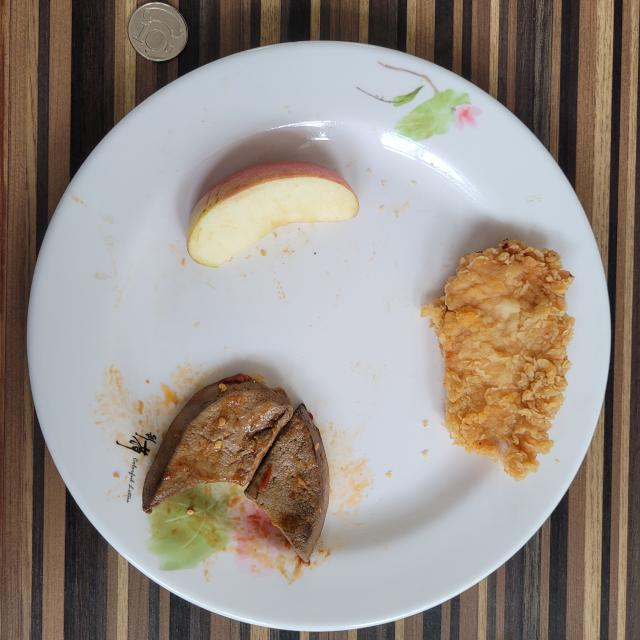apple -sliced-: (188, 161, 359, 268)
coin: (128, 2, 188, 61)
fried chicken cutlet: (421, 240, 574, 481)
pig liver: (142, 374, 329, 564)
